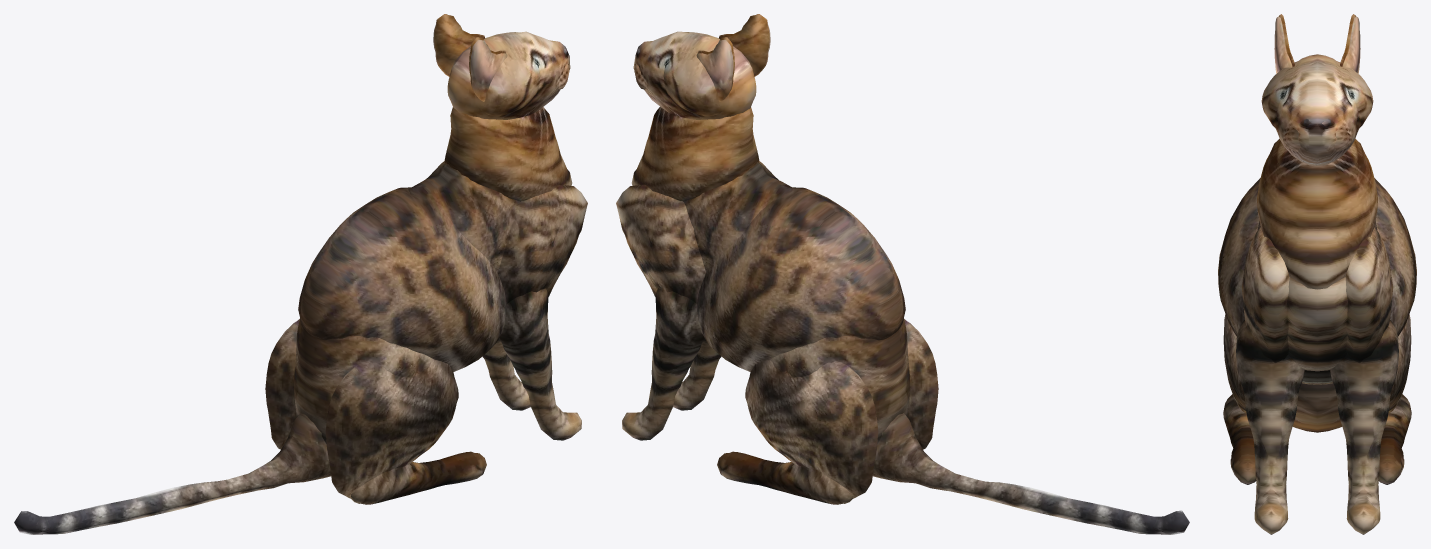
The model's file is cat-sitting.glb.
3 views of the same model, side by side, from view 1: azimuth 30°, elevation 25°; view 2: azimuth 150°, elevation 25°; view 3: azimuth 270°, elevation 25° (orthographic). The views are drawn at different scales.
Visible parts, largest first — view 1: Object_0; view 2: Object_0; view 3: Object_0.
Part boxes in pixels (box(x1,y1,x2,y2)): Object_0: box(14, 14, 587, 534); Object_0: box(616, 14, 1189, 534); Object_0: box(1218, 14, 1416, 534).
Bounding box in the file's own units: 0.4372 × 0.32 × 0.1204.
Materials: 1 (1 with a texture image).
